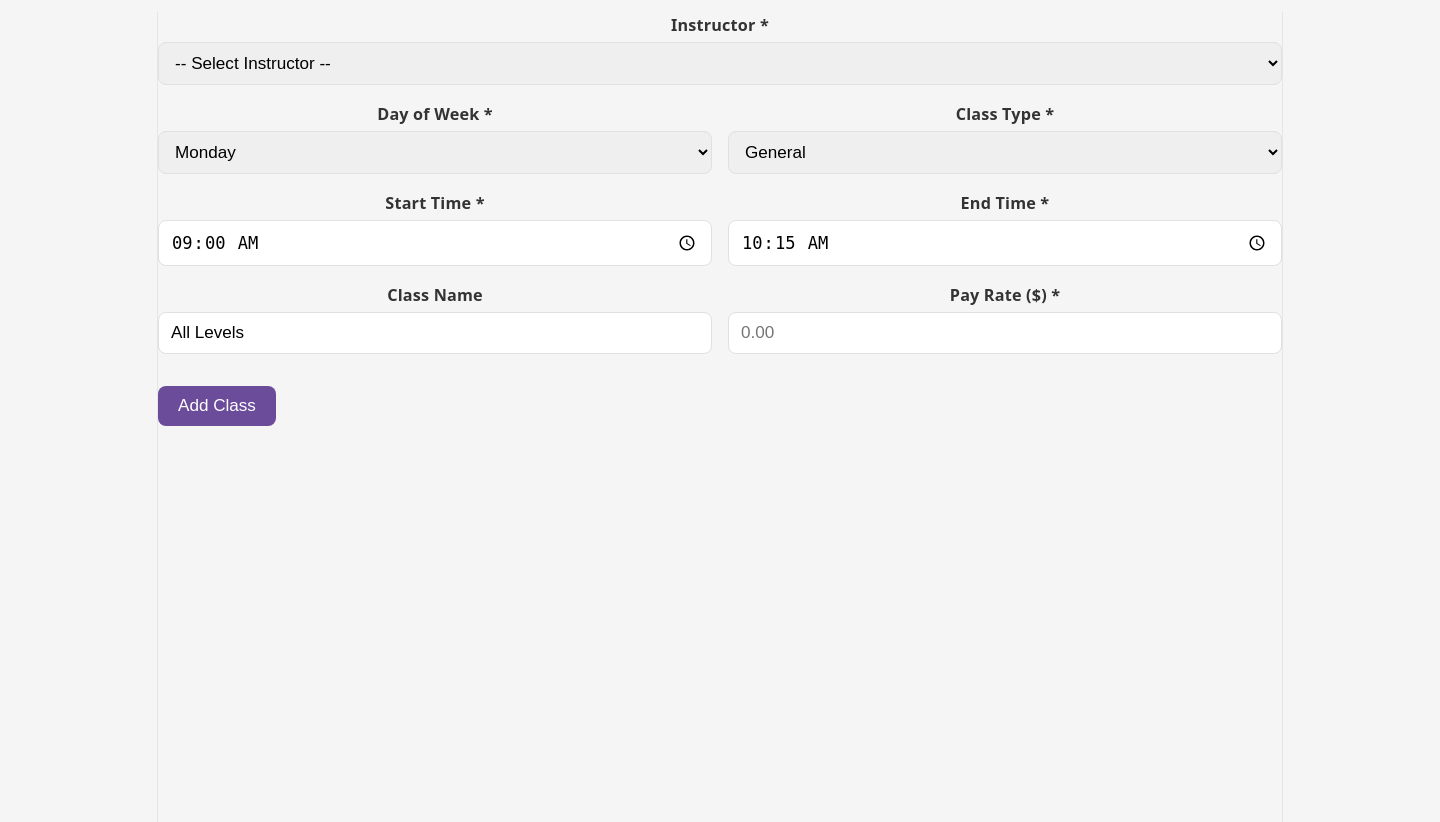
Test case: ClassForm — required field validation › shows error when payRate is 0
Step 1. Clear the number field with placeholder "0.00" → (1005, 333), box [728, 312, 1282, 354]
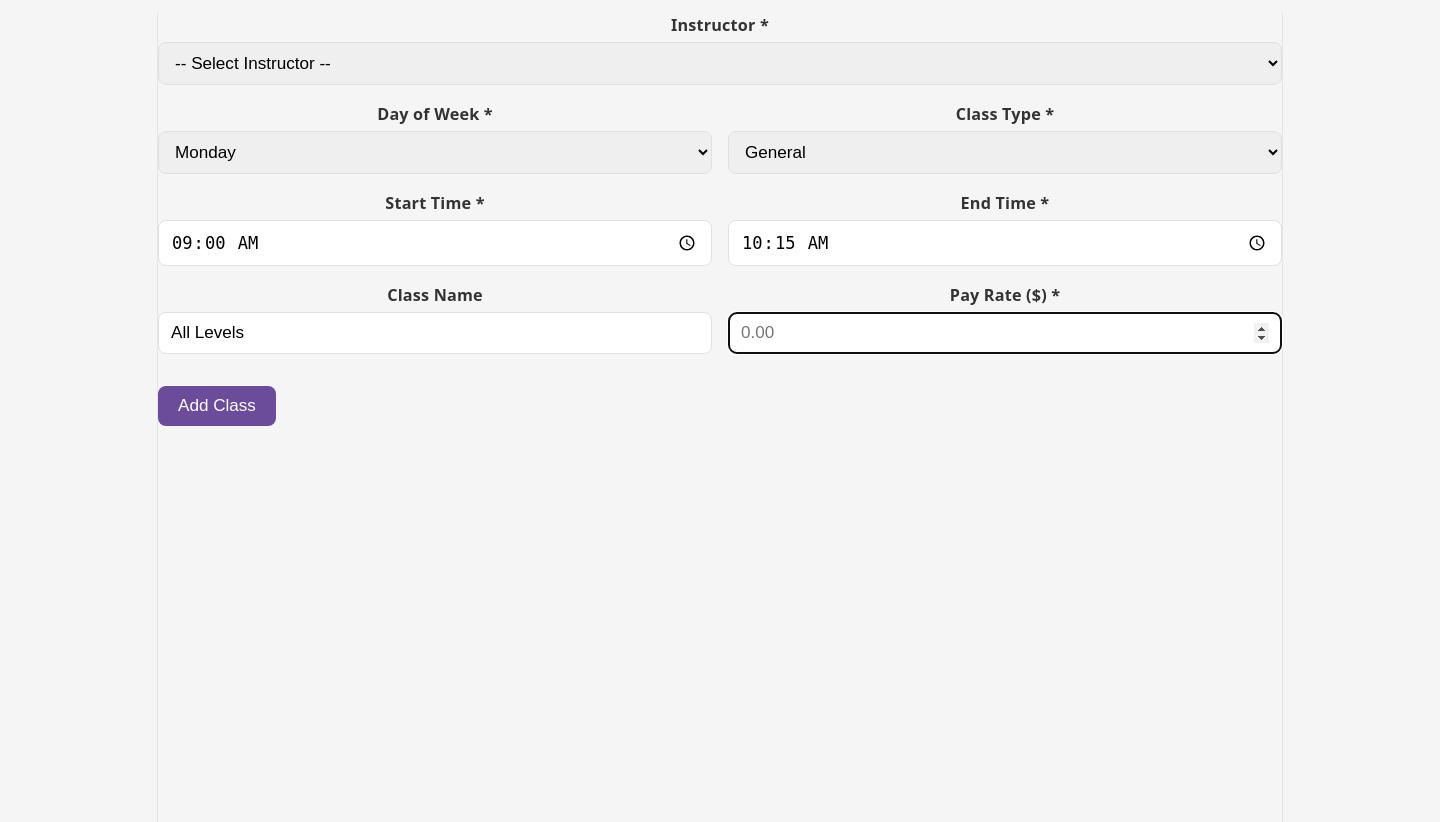
Step 2. Submit the form from the button "Add Class", box [158, 386, 276, 426]
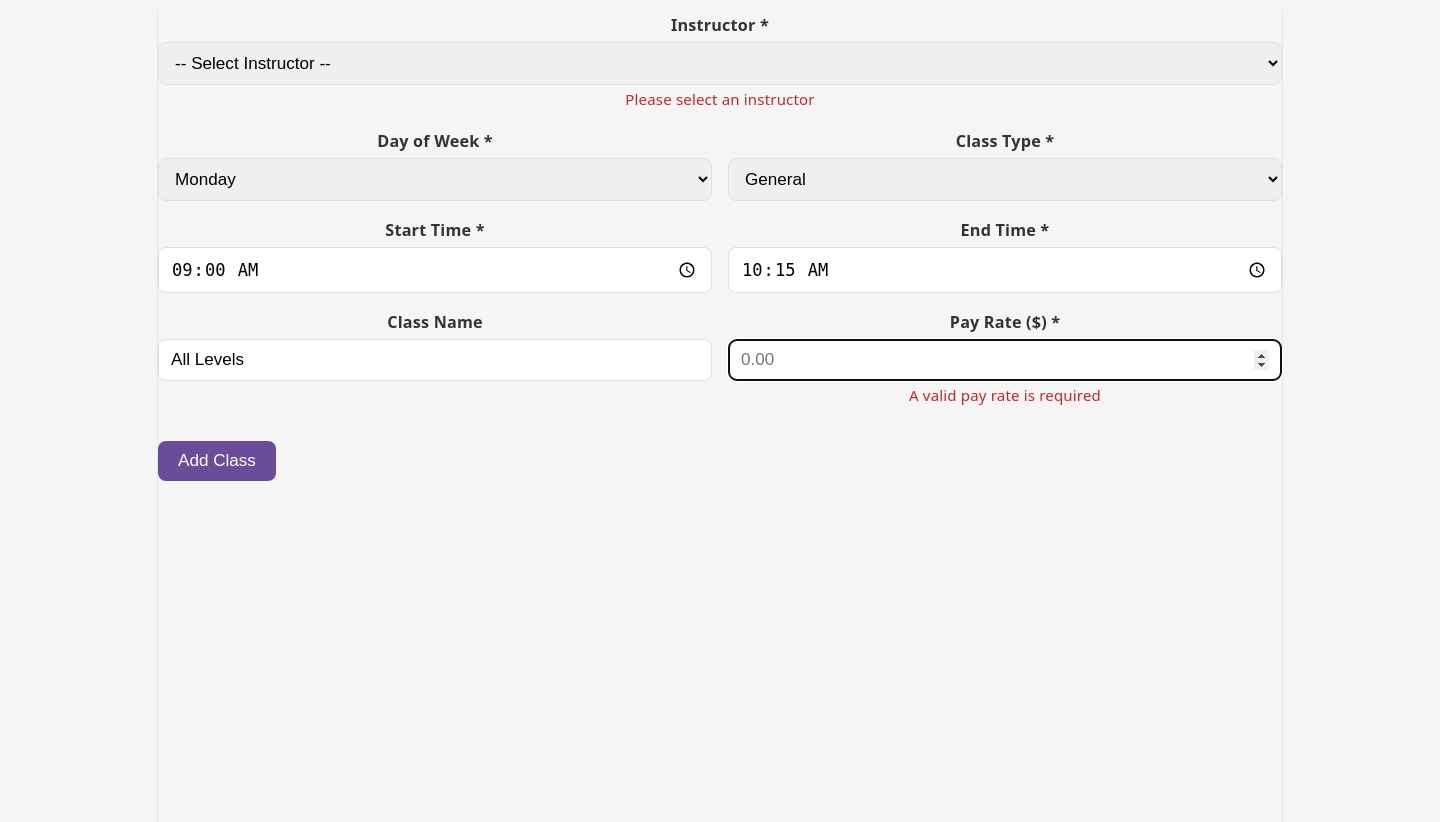
expect the text "A valid pay rate is required" is shown: met, box [909, 385, 1101, 405]
